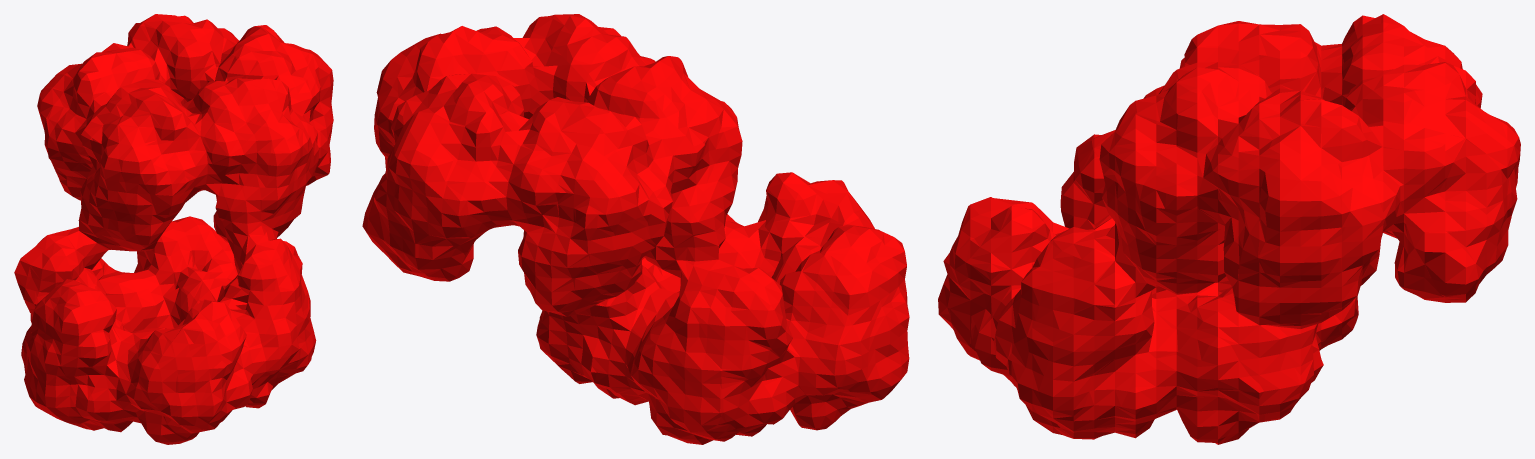
The model's file is hldD_coarse.dae.
3 views of the same model, side by side, from view 1: azimuth 30°, elevation 25°; view 2: azimuth 150°, elevation 25°; view 3: azimuth 270°, elevation 25° (orthographic). The views are drawn at different scales.
Parts seen in each view (by area): view 1: hldD; view 2: hldD; view 3: hldD.
Part boxes in pixels (x1,y1,x2,y2): hldD: (14,14,333,444); hldD: (362,14,909,444); hldD: (938,14,1520,444).
Size of the model in its own units: 148 by 122 by 153.
